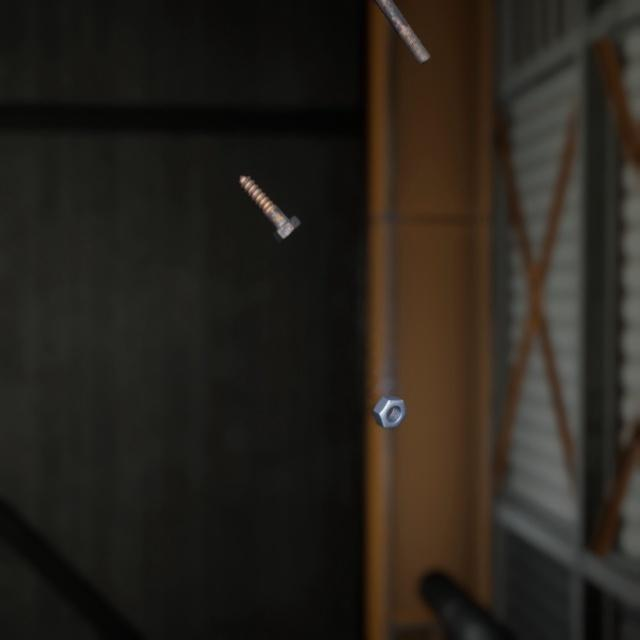bolt: (234, 155, 305, 231), (373, 0, 434, 62)
nut: (368, 372, 411, 413)
